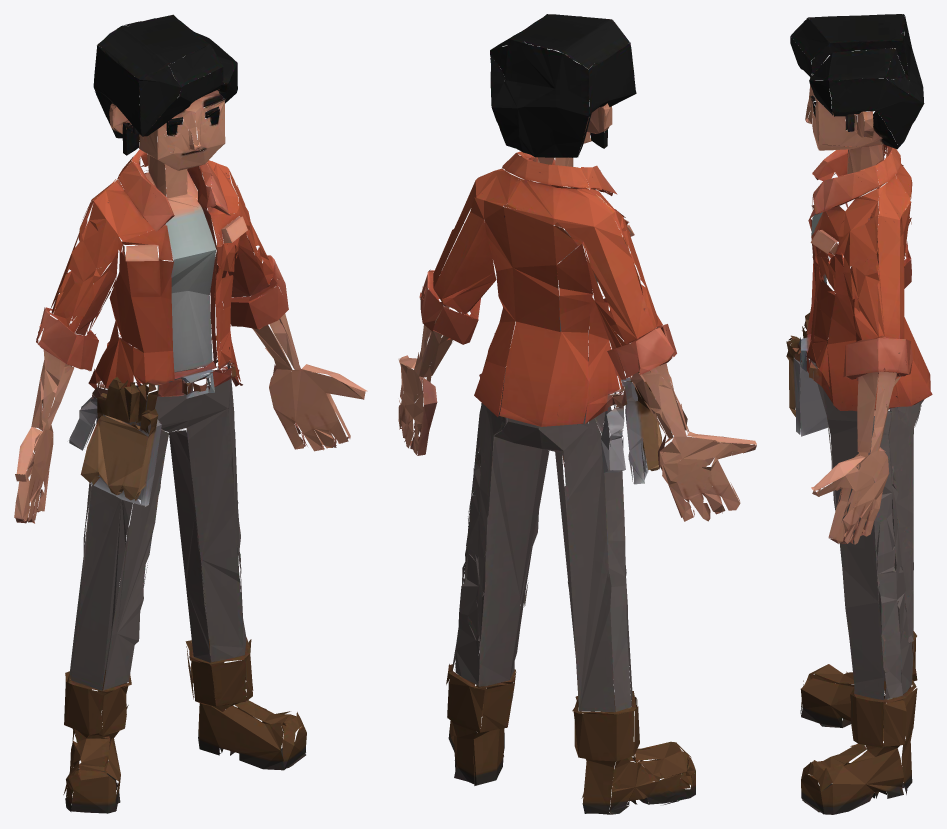
The model's file is habitant.glb.
The picture shows the model from 3 angles, left to right: view 1: azimuth 30°, elevation 25°; view 2: azimuth 150°, elevation 25°; view 3: azimuth 270°, elevation 25°; orthographic projection. The views are drawn at different scales.
Visible parts, largest first — view 1: world; view 2: world; view 3: world.
Part boxes in pixels (bbox=[...]): world: bbox=[14, 14, 367, 813]; world: bbox=[398, 14, 756, 814]; world: bbox=[786, 14, 932, 814].
Bounding box in the file's own units: 0.5015 × 1 × 0.1817.
Materials: 1 (1 with a texture image).
